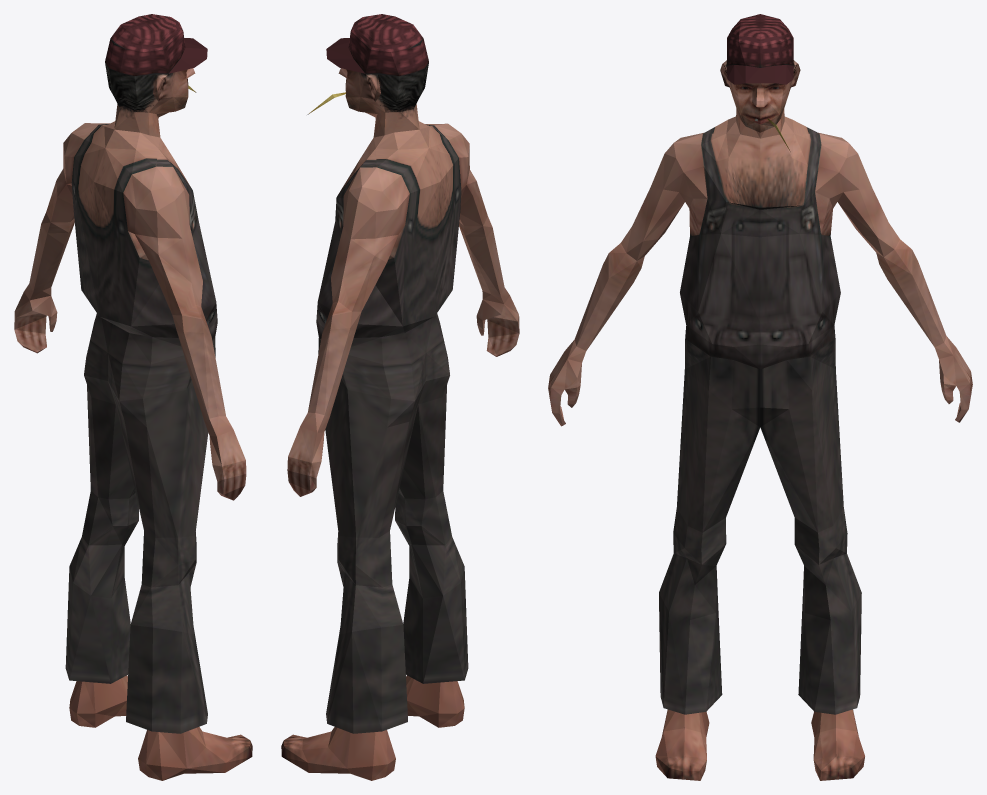
File: cwmohb1.obj
The picture shows the model from 3 angles, left to right: view 1: azimuth 30°, elevation 25°; view 2: azimuth 150°, elevation 25°; view 3: azimuth 270°, elevation 25°; orthographic projection.
Visible parts, largest first — view 1: _Pelvis; view 2: _Pelvis; view 3: _Pelvis.
Boxes of the visible parts, x1,y1,x2,y2 form: _Pelvis: (14, 14, 252, 780); _Pelvis: (281, 14, 519, 780); _Pelvis: (548, 14, 972, 780).
Bounding box in the file's own units: 0.3226 × 1.84 × 0.9691.
Materials: 1 (1 with a texture image).
